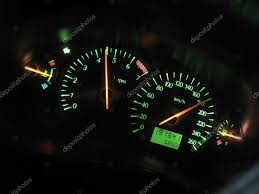Digital_Meter: (153, 122, 183, 154)
